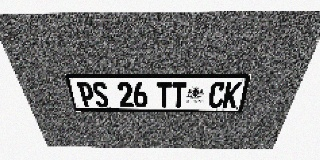2: (117, 82, 134, 107)
6: (132, 82, 148, 107)
C: (208, 82, 226, 108)
K: (222, 82, 242, 108)
P: (76, 82, 96, 107)
S: (91, 82, 110, 107)
T: (172, 82, 187, 108), (157, 82, 172, 107)
